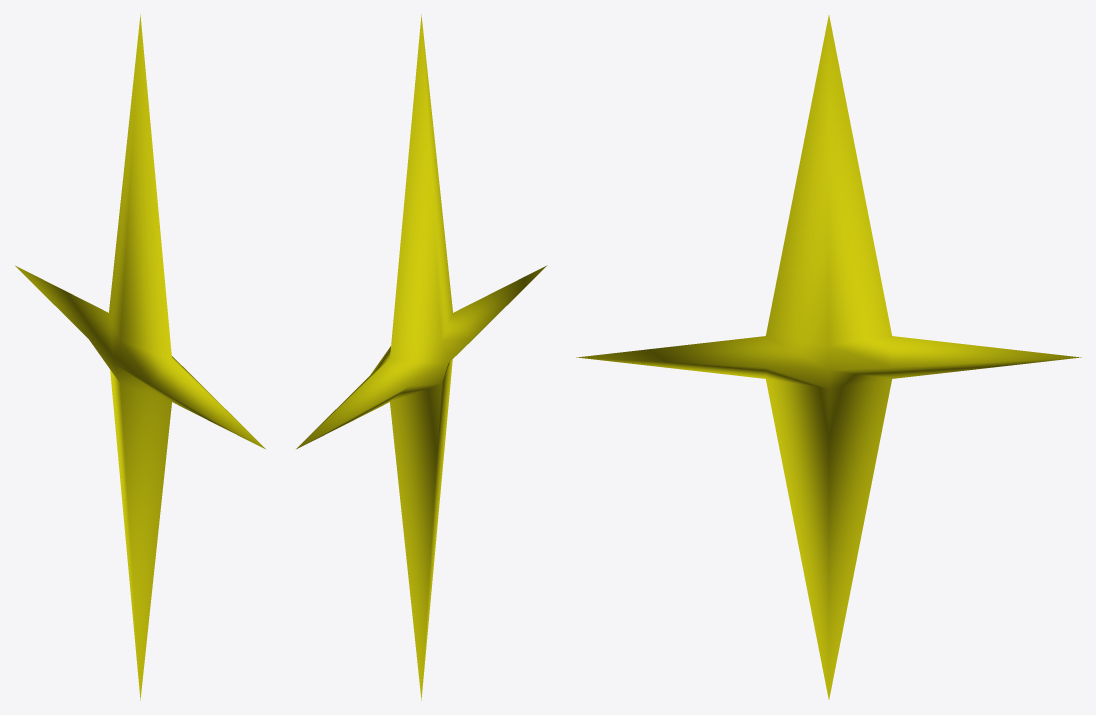
The model's file is sharp_star_24.obj.
3 renders of one model, left to right at view 1: azimuth 30°, elevation 25°; view 2: azimuth 150°, elevation 25°; view 3: azimuth 270°, elevation 25°, orthographic.
Parts seen in each view (by area): view 1: sharp_star_24; view 2: sharp_star_24; view 3: sharp_star_24.
Part boxes in pixels (bbox=[...]): sharp_star_24: bbox=[15, 14, 265, 700]; sharp_star_24: bbox=[296, 14, 546, 700]; sharp_star_24: bbox=[576, 15, 1081, 699].
Size of the model in its own units: 0.6452 by 8 by 5.34.
